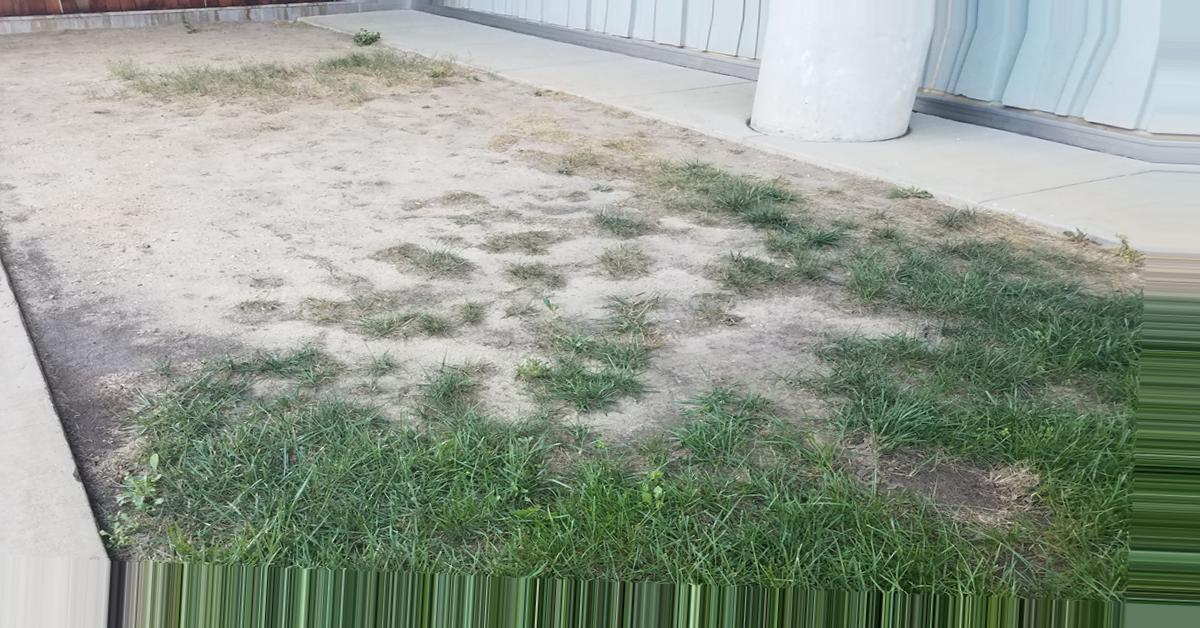patch: (59, 87, 467, 327), (477, 96, 679, 335), (60, 33, 351, 81)
